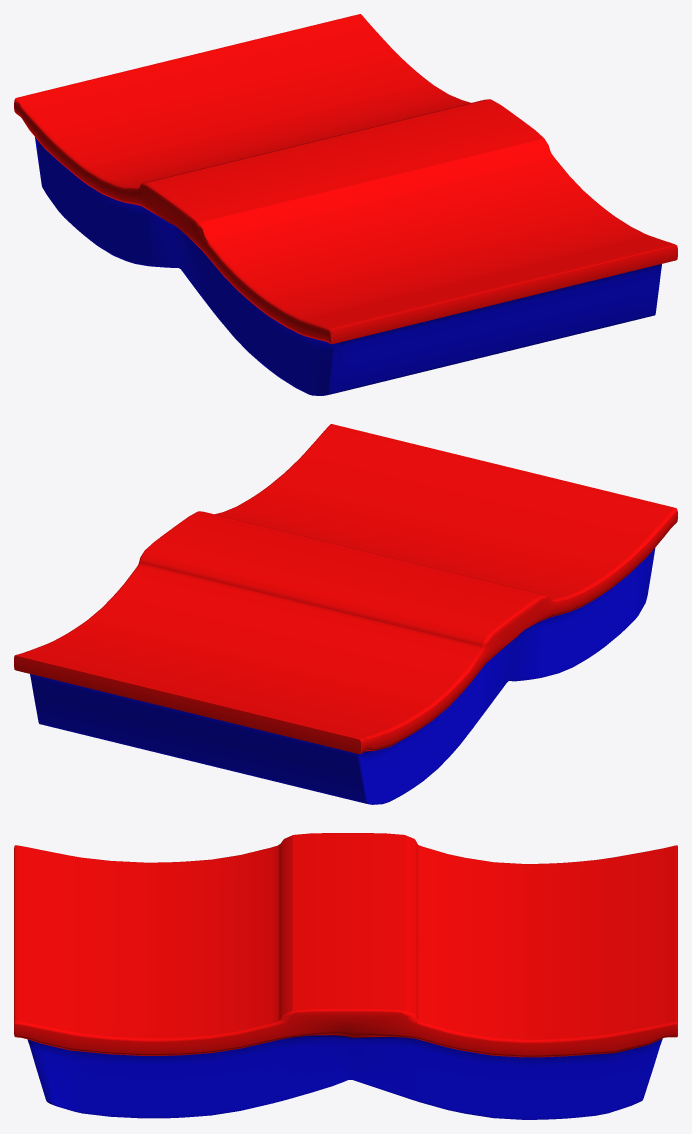
Rendered from Libro.fbx.
3 views of the same model, one above another, from view 1: azimuth 30°, elevation 25°; view 2: azimuth 150°, elevation 25°; view 3: azimuth 270°, elevation 25° (orthographic). The views are drawn at different scales.
Parts seen in each view (by area): view 1: Libro_Final; view 2: Libro_Final; view 3: Libro_Final.
Boxes of the visible parts, left/top/right/bottom form: Libro_Final: left=14, top=14, right=677, bottom=395; Libro_Final: left=14, top=424, right=677, bottom=804; Libro_Final: left=14, top=833, right=677, bottom=1119.
Bounding box in the file's own units: 79.87 × 23.93 × 126.
